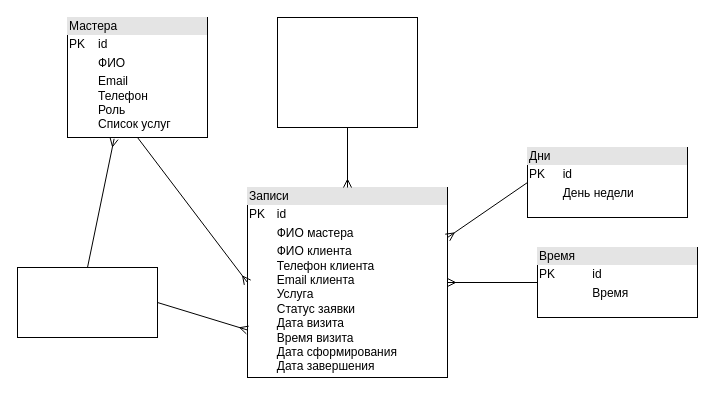
This 715x395 diagram has some shape labels left out. The shapes that lost their labels are listed below. From the top down, each one's centre as x and y in pixels, then its label:
(347,72): Клиенты PK id ФИО Email Телефон Роль
(87,302): Услуги PK id Наименование
